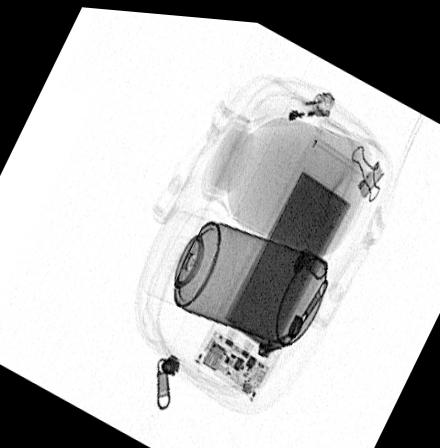Lighter: (252, 84, 336, 122)
Powerbank: (193, 129, 375, 401)
Sprayer: (148, 205, 327, 338)
